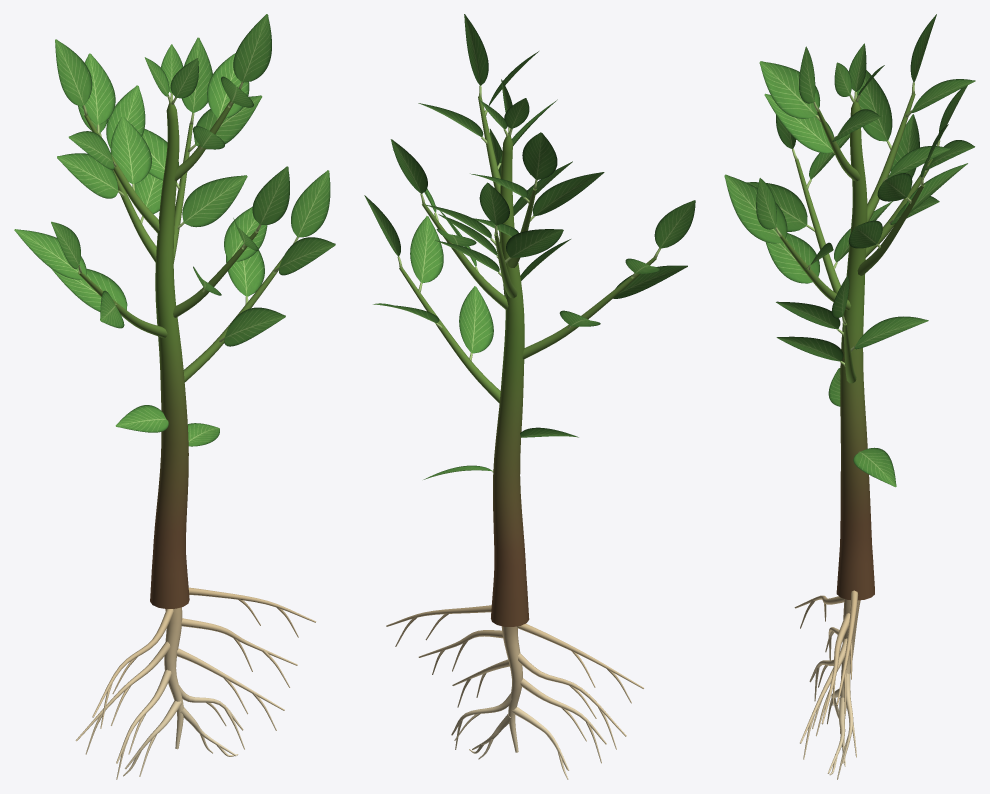
File: plant.glb
3 views of the same model, side by side, from view 1: azimuth 30°, elevation 25°; view 2: azimuth 150°, elevation 25°; view 3: azimuth 270°, elevation 25° (orthographic). The views are drawn at different scales.
Visible parts, largest first — view 1: Stem_Main, Roots, Leaf_08, Leaf_12, Leaf_19, Leaf_04, Leaf_15, Leaf_25, Leaf_23, Leaf_06, Leaf_14, Leaf_01 (+23 smaller); view 2: Stem_Main, Roots, Leaf_01, Leaf_03, Leaf_07, Leaf_15, Leaf_13, Leaf_25, Branch_01, Branch_02, Leaf_19, Leaf_11 (+5 smaller); view 3: Stem_Main, Roots, Leaf_18, Leaf_22, Leaf_20, Leaf_13, Leaf_16, Leaf_Hero, Leaf_Old, Leaf_02, Leaf_01, Branch_02 (+22 smaller).
Part boxes in pixels (x1,y1,x2,y2): Stem_Main: (150, 101, 189, 608); Roots: (75, 587, 316, 779); Leaf_08: (177, 175, 247, 228); Leaf_12: (110, 117, 151, 190); Leaf_19: (233, 14, 271, 89); Leaf_04: (291, 170, 330, 243); Leaf_15: (55, 39, 92, 115); Leaf_25: (57, 153, 124, 198); Leaf_23: (252, 166, 289, 233); Leaf_06: (14, 229, 86, 279); Leaf_14: (82, 53, 115, 134); Leaf_01: (219, 307, 285, 346); Stem_Main: (491, 133, 529, 626); Roots: (386, 605, 644, 779); Leaf_01: (459, 286, 493, 360); Leaf_03: (410, 216, 443, 292); Leaf_07: (654, 200, 695, 258); Leaf_15: (522, 132, 557, 189); Leaf_13: (530, 172, 604, 221); Leaf_25: (505, 229, 563, 263); Branch_01: (399, 267, 500, 403); Branch_02: (522, 257, 656, 359); Leaf_19: (464, 14, 488, 96); Leaf_11: (390, 139, 427, 204); Stem_Main: (836, 100, 874, 600); Roots: (794, 590, 860, 779); Leaf_18: (759, 61, 820, 122); Leaf_22: (724, 174, 787, 243); Leaf_20: (765, 233, 819, 283); Leaf_13: (856, 70, 892, 149); Leaf_16: (764, 93, 834, 153); Leaf_Hero: (746, 182, 815, 231); Leaf_Old: (853, 447, 896, 487); Leaf_02: (850, 316, 928, 351); Leaf_01: (776, 336, 845, 366); Branch_02: (795, 159, 840, 293).
Size of the model in its own units: 0.8651 by 1.99 by 0.6141.
4 materials, 1 textured.
